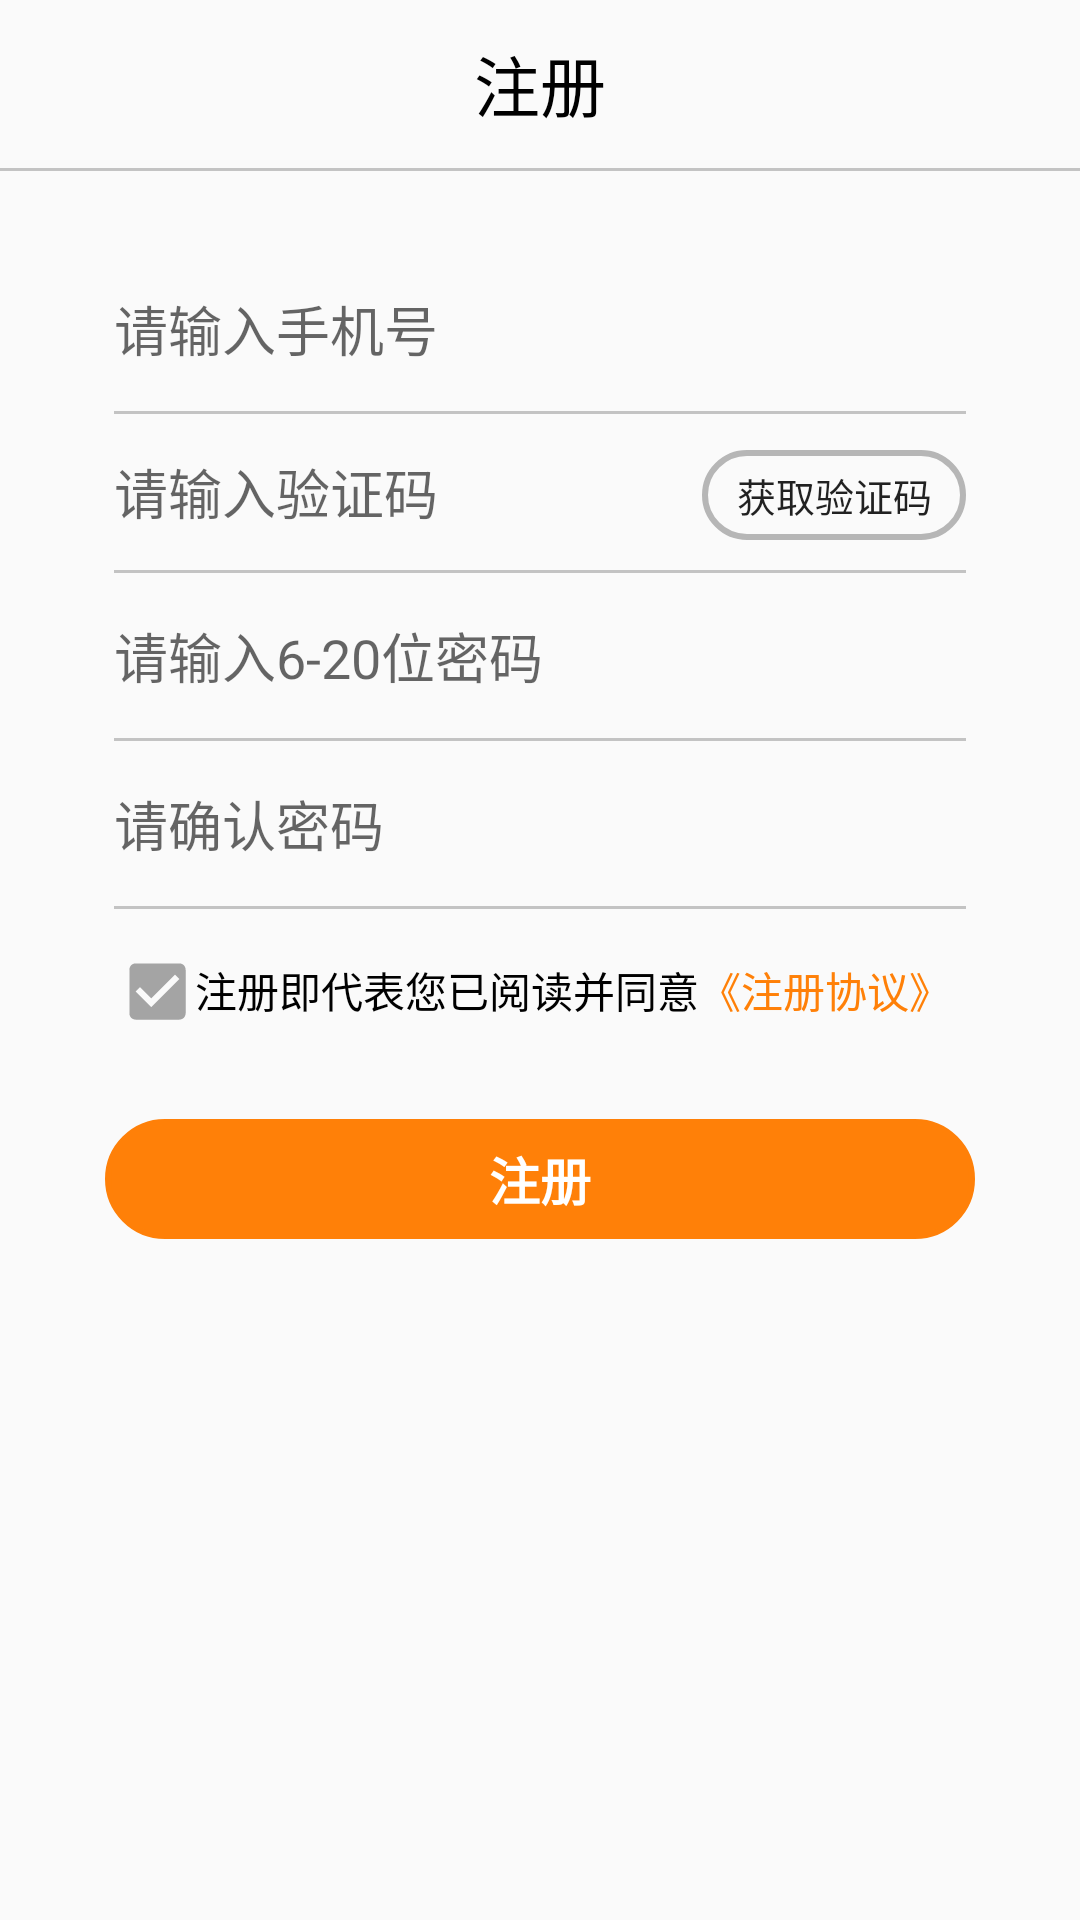

Screen size 1080 × 1920. Icon name, then its center in pixels as [x,y]:
uncheck box: [157,991]
